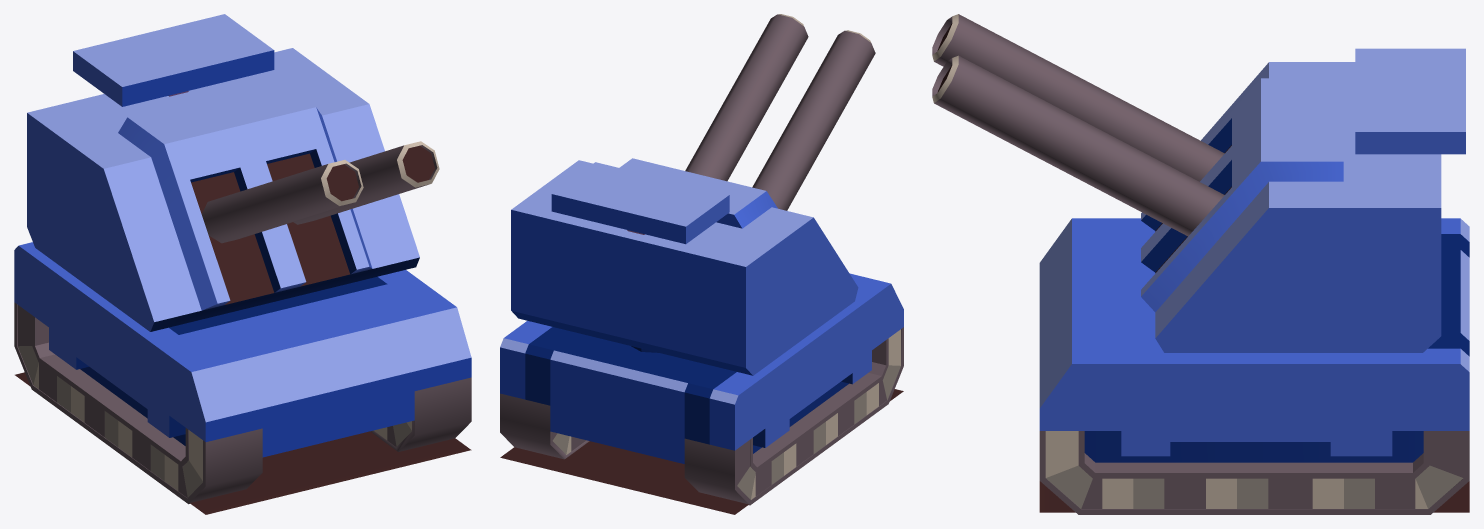
The model's file is AntiAirMesh.CobaltIce.glb.
3 renders of one model, left to right at view 1: azimuth 30°, elevation 25°; view 2: azimuth 150°, elevation 25°; view 3: azimuth 270°, elevation 25°, orthographic. The views are drawn at different scales.
Parts seen in each view (by area): view 1: AntiAirMesh.CobaltIce; view 2: AntiAirMesh.CobaltIce; view 3: AntiAirMesh.CobaltIce.
Boxes of the visible parts, x1,y1,x2,y2 form: AntiAirMesh.CobaltIce: (14, 14, 471, 514); AntiAirMesh.CobaltIce: (500, 14, 903, 514); AntiAirMesh.CobaltIce: (932, 14, 1469, 514).
Bounding box in the file's own units: 1.4 × 1.8 × 2.18.
1 material, 1 textured.
